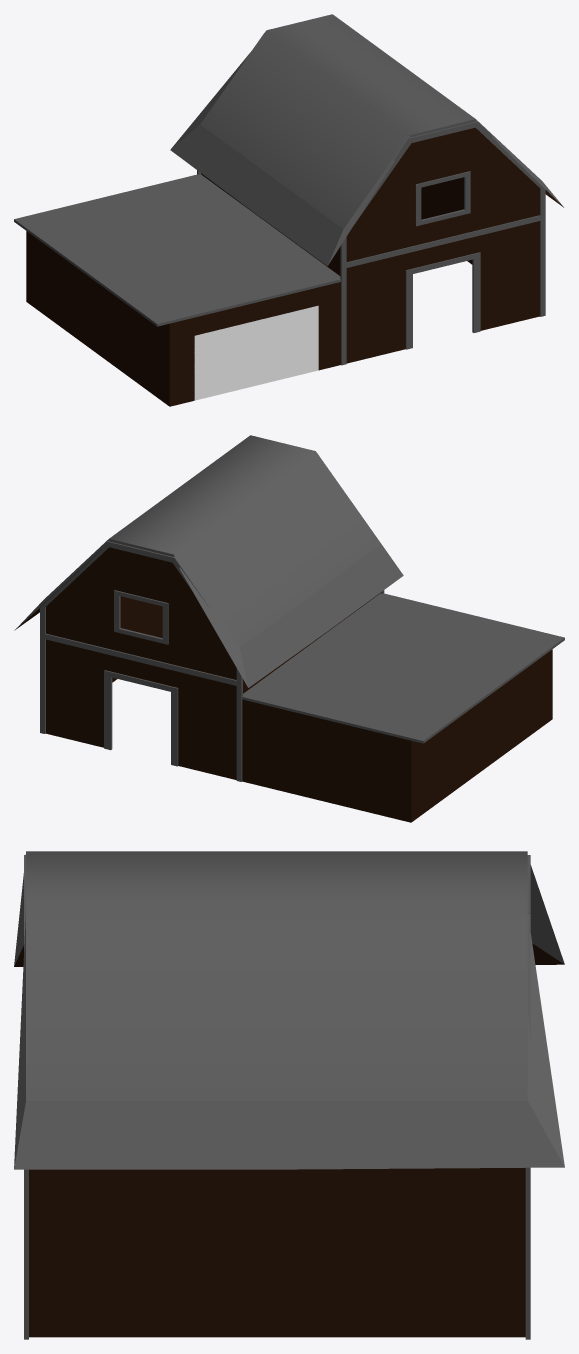
The model's file is BarnV2.fbx.
3 renders of one model, top to bottom at view 1: azimuth 30°, elevation 25°; view 2: azimuth 150°, elevation 25°; view 3: azimuth 270°, elevation 25°, orthographic. The views are drawn at different scales.
Visible parts, largest first — view 1: BarnBody, Garage, GarageDoor, BarnFrameFront, BarnEntranceFrameFront, BarnWindowFrameFront; view 2: BarnBody, Garage, BarnFrameBack, BarnEntranceFrameBack, BarnWindowFrameBack; view 3: BarnBody, BarnFrameBack, BarnFrameFront.
Part boxes in pixels (box(x1,y1,x2,y2)): BarnBody: box(170, 14, 563, 363); Garage: box(14, 174, 340, 406); GarageDoor: box(194, 305, 318, 400); BarnFrameFront: box(340, 121, 545, 365); BarnEntranceFrameFront: box(405, 252, 480, 349); BarnWindowFrameFront: box(415, 171, 470, 226); BarnBody: box(14, 435, 403, 779); Garage: box(242, 593, 564, 822); BarnFrameBack: box(40, 541, 242, 781); BarnEntranceFrameBack: box(104, 670, 178, 766); BarnWindowFrameBack: box(114, 590, 168, 644); BarnBody: box(14, 851, 564, 1337); BarnFrameBack: box(525, 855, 530, 1339); BarnFrameFront: box(24, 855, 28, 1339).
Size of the model in its own units: 163 by 82 by 110.
